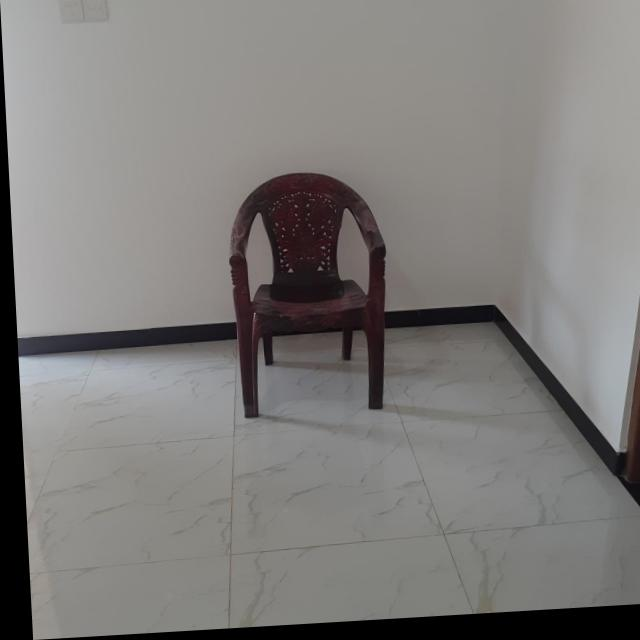Chair: (223, 171, 390, 425)
